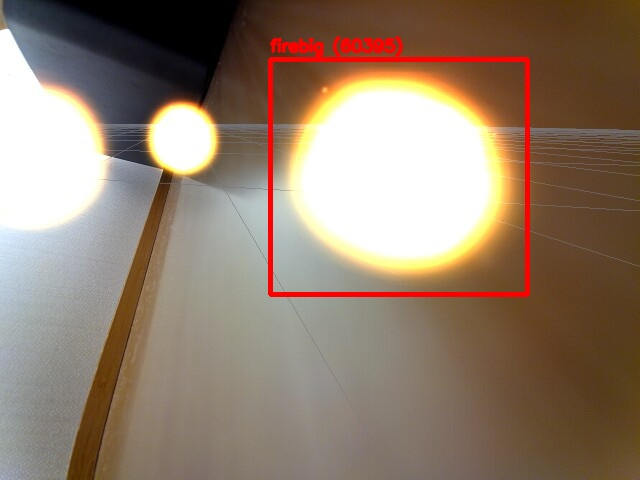firebig: (270, 59, 527, 294)
